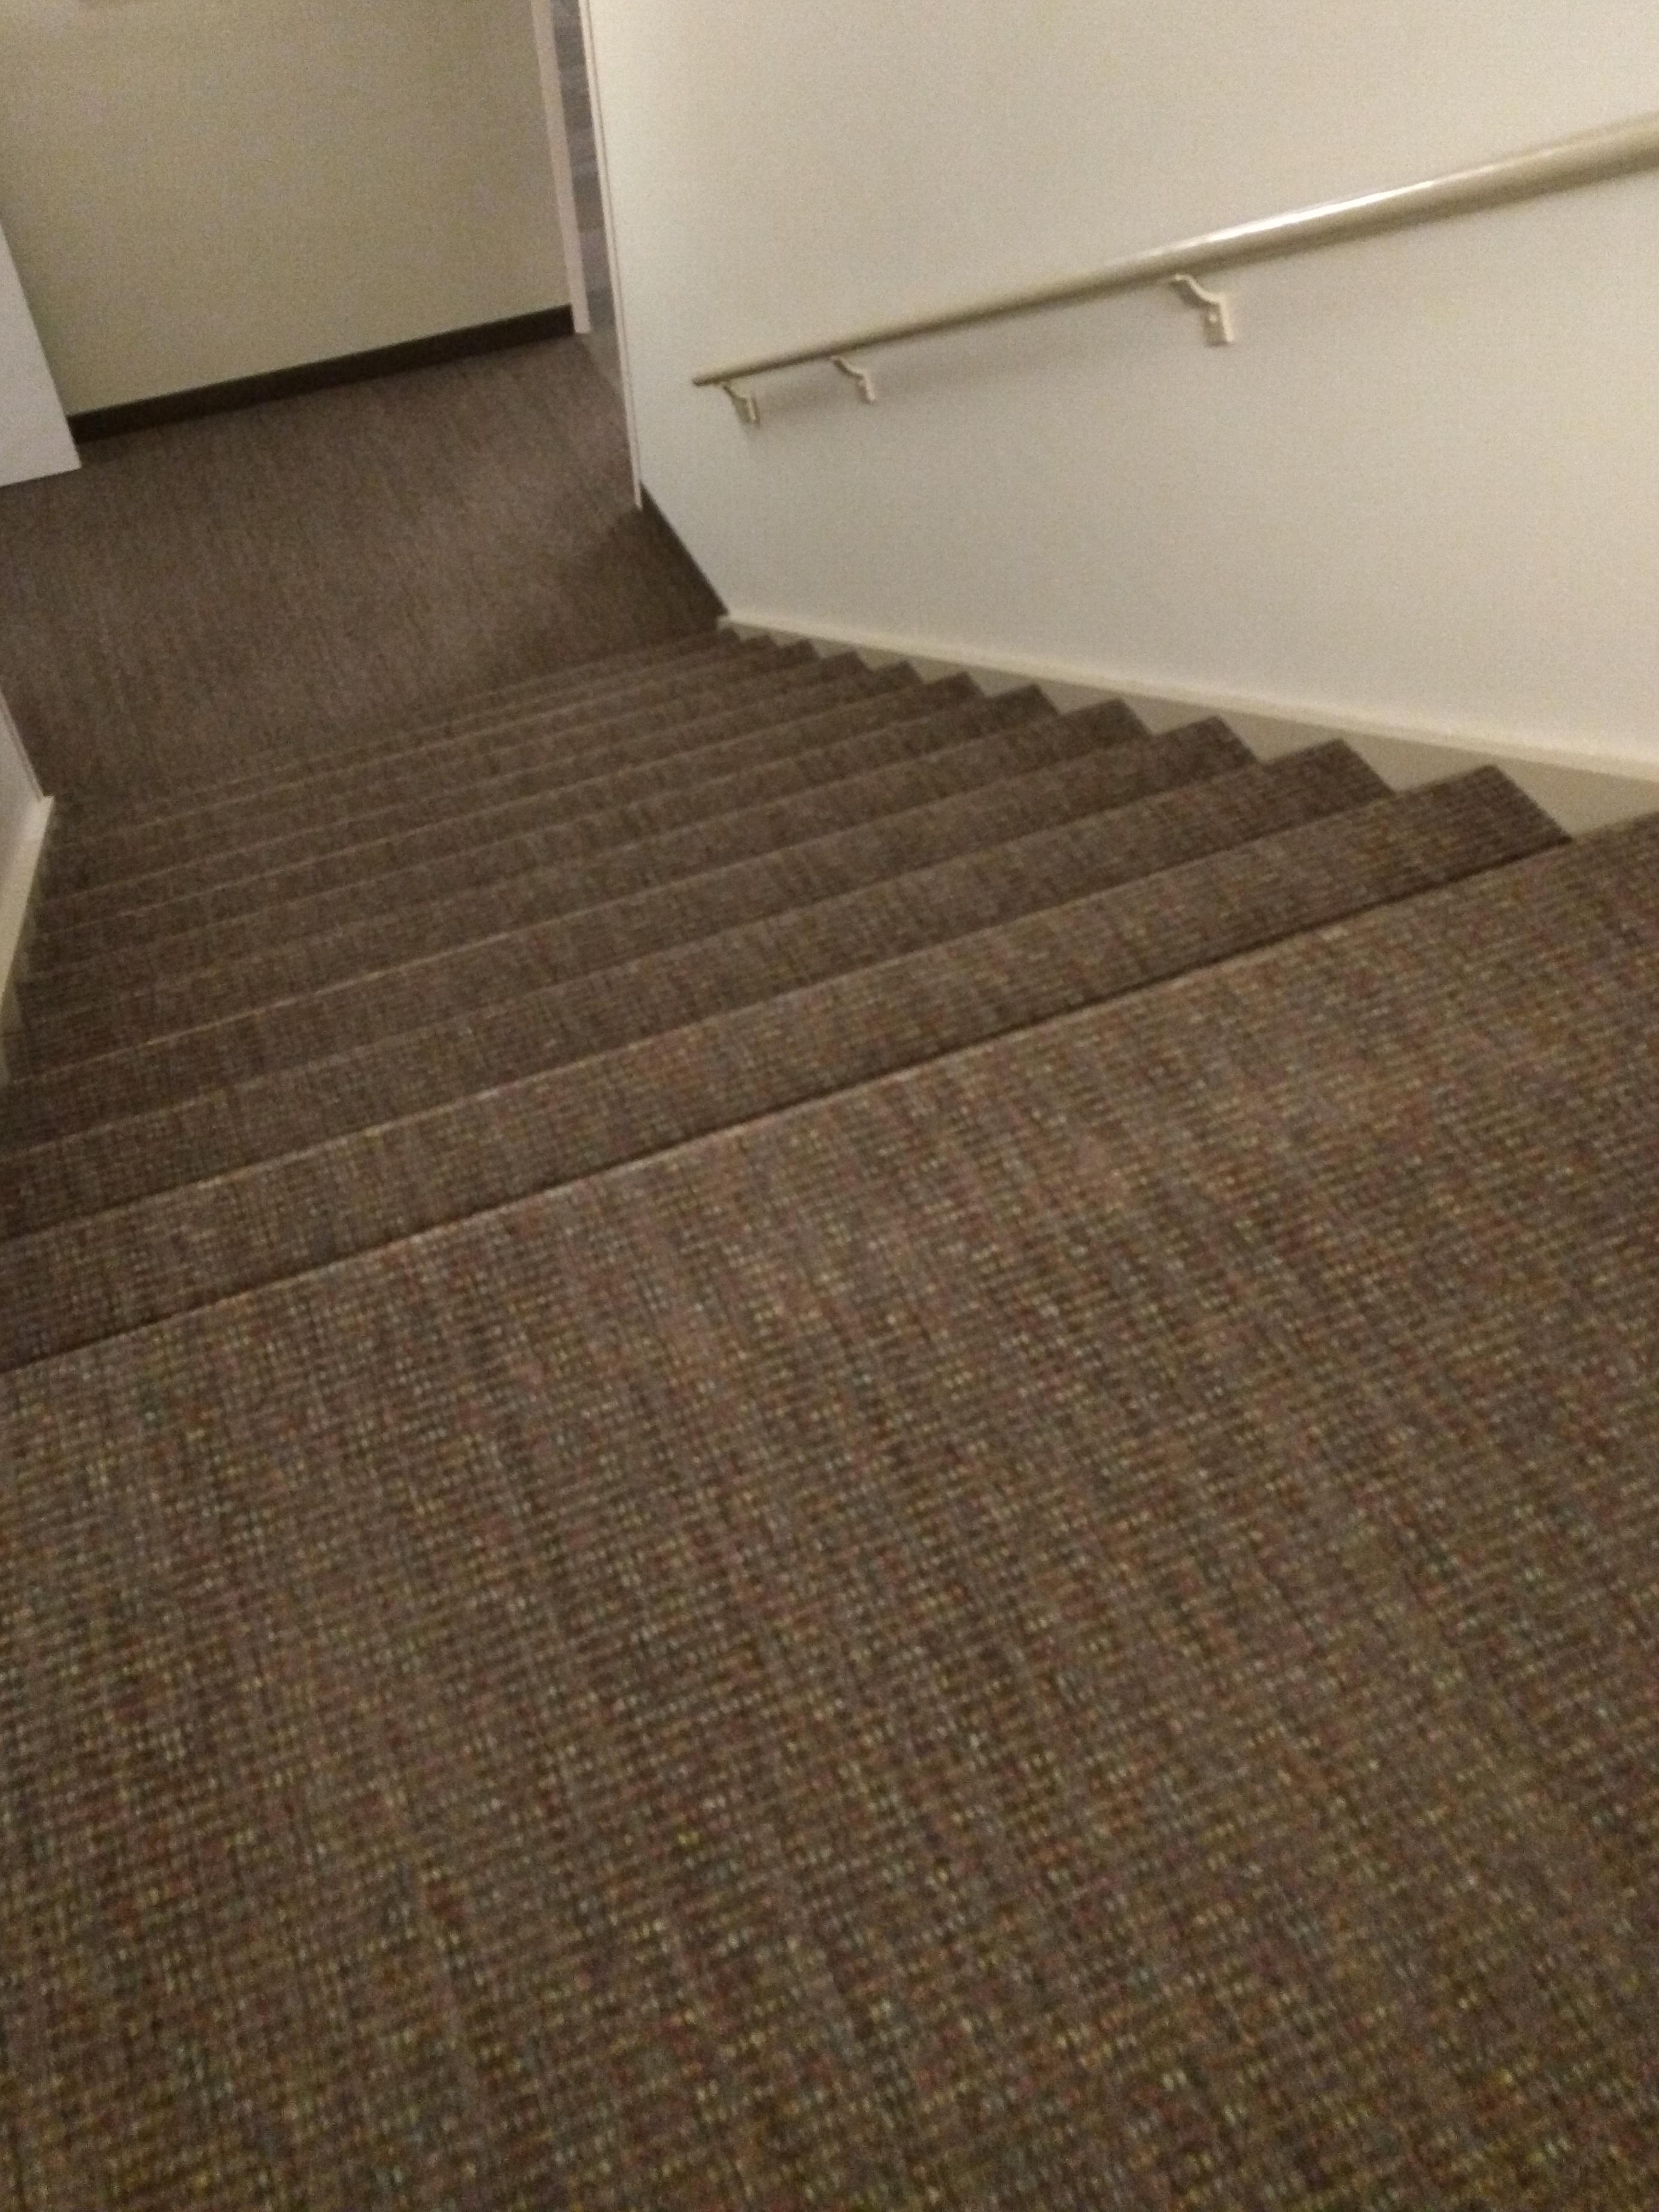stairs_down: (0, 568, 1650, 1399)
